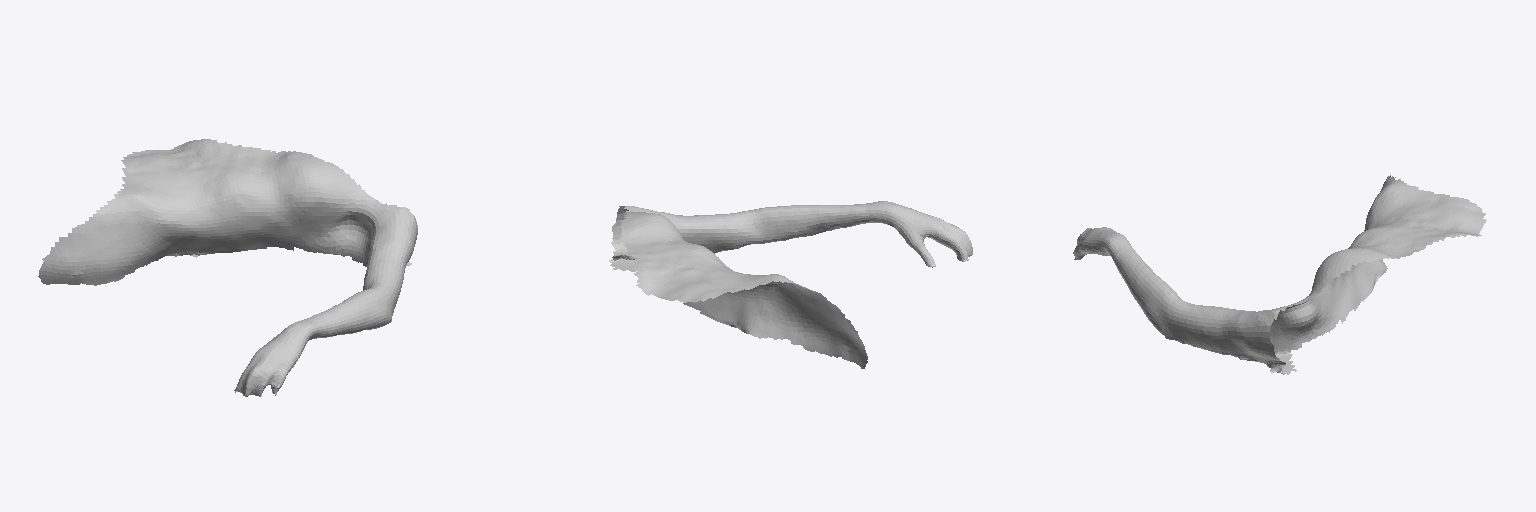
File: left-torso.obj
3 renders of one model, left to right at view 1: azimuth 30°, elevation 25°; view 2: azimuth 150°, elevation 25°; view 3: azimuth 270°, elevation 25°, orthographic.
Visible parts, largest first — view 1: Retopo_cross-leg-pose_mesh.003; view 2: Retopo_cross-leg-pose_mesh.003; view 3: Retopo_cross-leg-pose_mesh.003.
Part boxes in pixels (left/top/right/bottom): Retopo_cross-leg-pose_mesh.003: left=38, top=139, right=417, bottom=396; Retopo_cross-leg-pose_mesh.003: left=609, top=201, right=972, bottom=368; Retopo_cross-leg-pose_mesh.003: left=1073, top=175, right=1486, bottom=374.
Bounding box in the file's own units: 12.77 × 3.48 × 14.39.